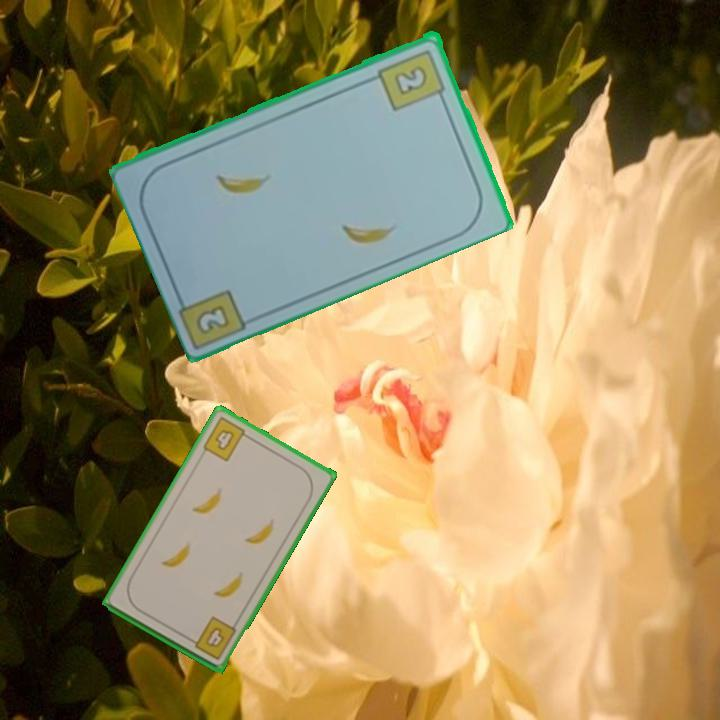2b: (375, 45, 449, 113), (192, 300, 233, 337)
4b: (199, 413, 254, 464), (185, 613, 239, 663)
